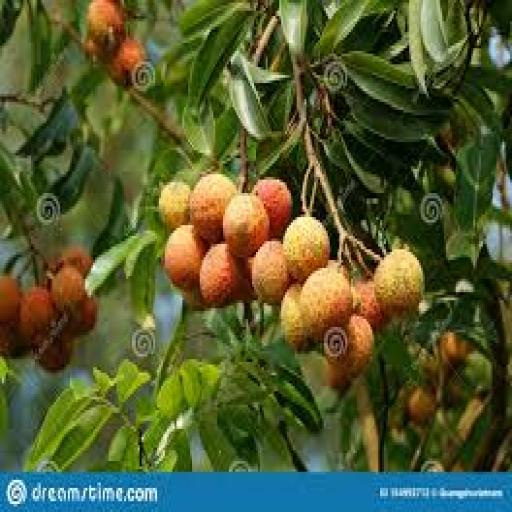lychee: (301, 269, 352, 343), (326, 314, 374, 391), (189, 172, 236, 243), (375, 250, 424, 316), (284, 215, 329, 281), (200, 244, 246, 308), (224, 194, 269, 257), (165, 226, 207, 289), (253, 242, 290, 305), (255, 177, 292, 238), (20, 287, 56, 345), (88, 0, 126, 50), (280, 285, 308, 351), (109, 38, 147, 85), (353, 282, 385, 332), (51, 266, 87, 310), (160, 180, 191, 230), (35, 336, 73, 372), (66, 298, 96, 335), (408, 387, 436, 426), (439, 333, 469, 369), (61, 247, 93, 278), (0, 277, 21, 324), (181, 287, 207, 310)
